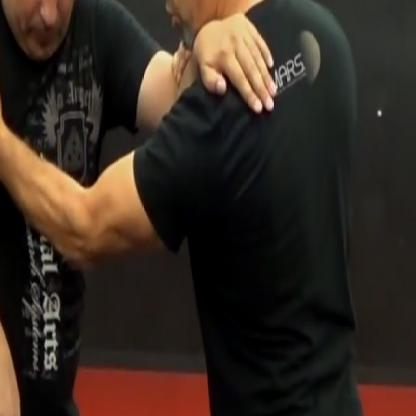knife: (0, 368, 72, 414)
